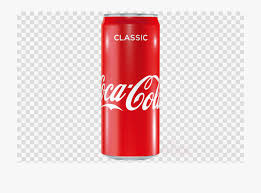coke: (99, 14, 160, 163)
